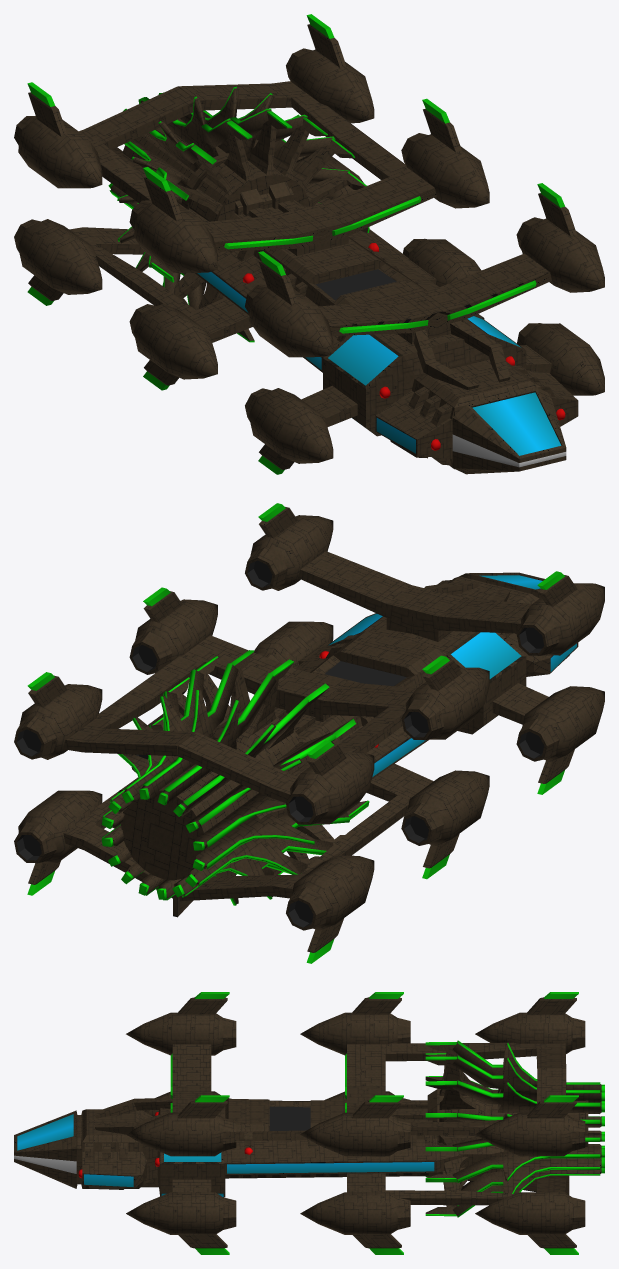
Rendered from Hercules.fbx.
3 views of the same model, one above another, from view 1: azimuth 30°, elevation 25°; view 2: azimuth 150°, elevation 25°; view 3: azimuth 270°, elevation 25° (orthographic). The views are drawn at different scales.
Parts seen in each view (by area): view 1: Cube, Cube.002; view 2: Cube, Cube.002; view 3: Cube, Cube.002.
Boxes of the visible parts, <box> form: Cube: <box>14,14,604,474</box>; Cube.002: <box>108,86,369,342</box>; Cube: <box>14,503,604,963</box>; Cube.002: <box>101,650,369,905</box>; Cube: <box>14,992,588,1254</box>; Cube.002: <box>425,1040,604,1217</box>.
Size of the model in its own units: 1066 by 689 by 2241.
